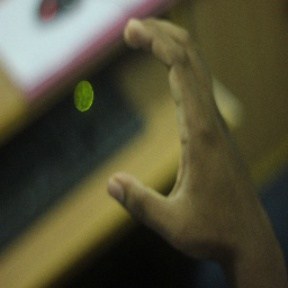C: (102, 15, 222, 224)
